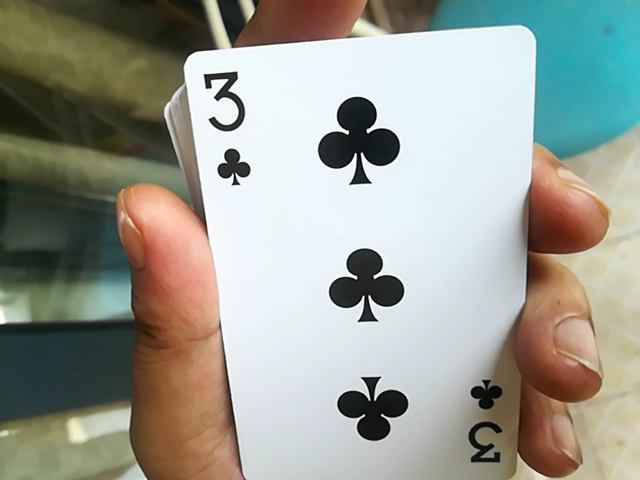mh 3: (175, 23, 519, 474)
